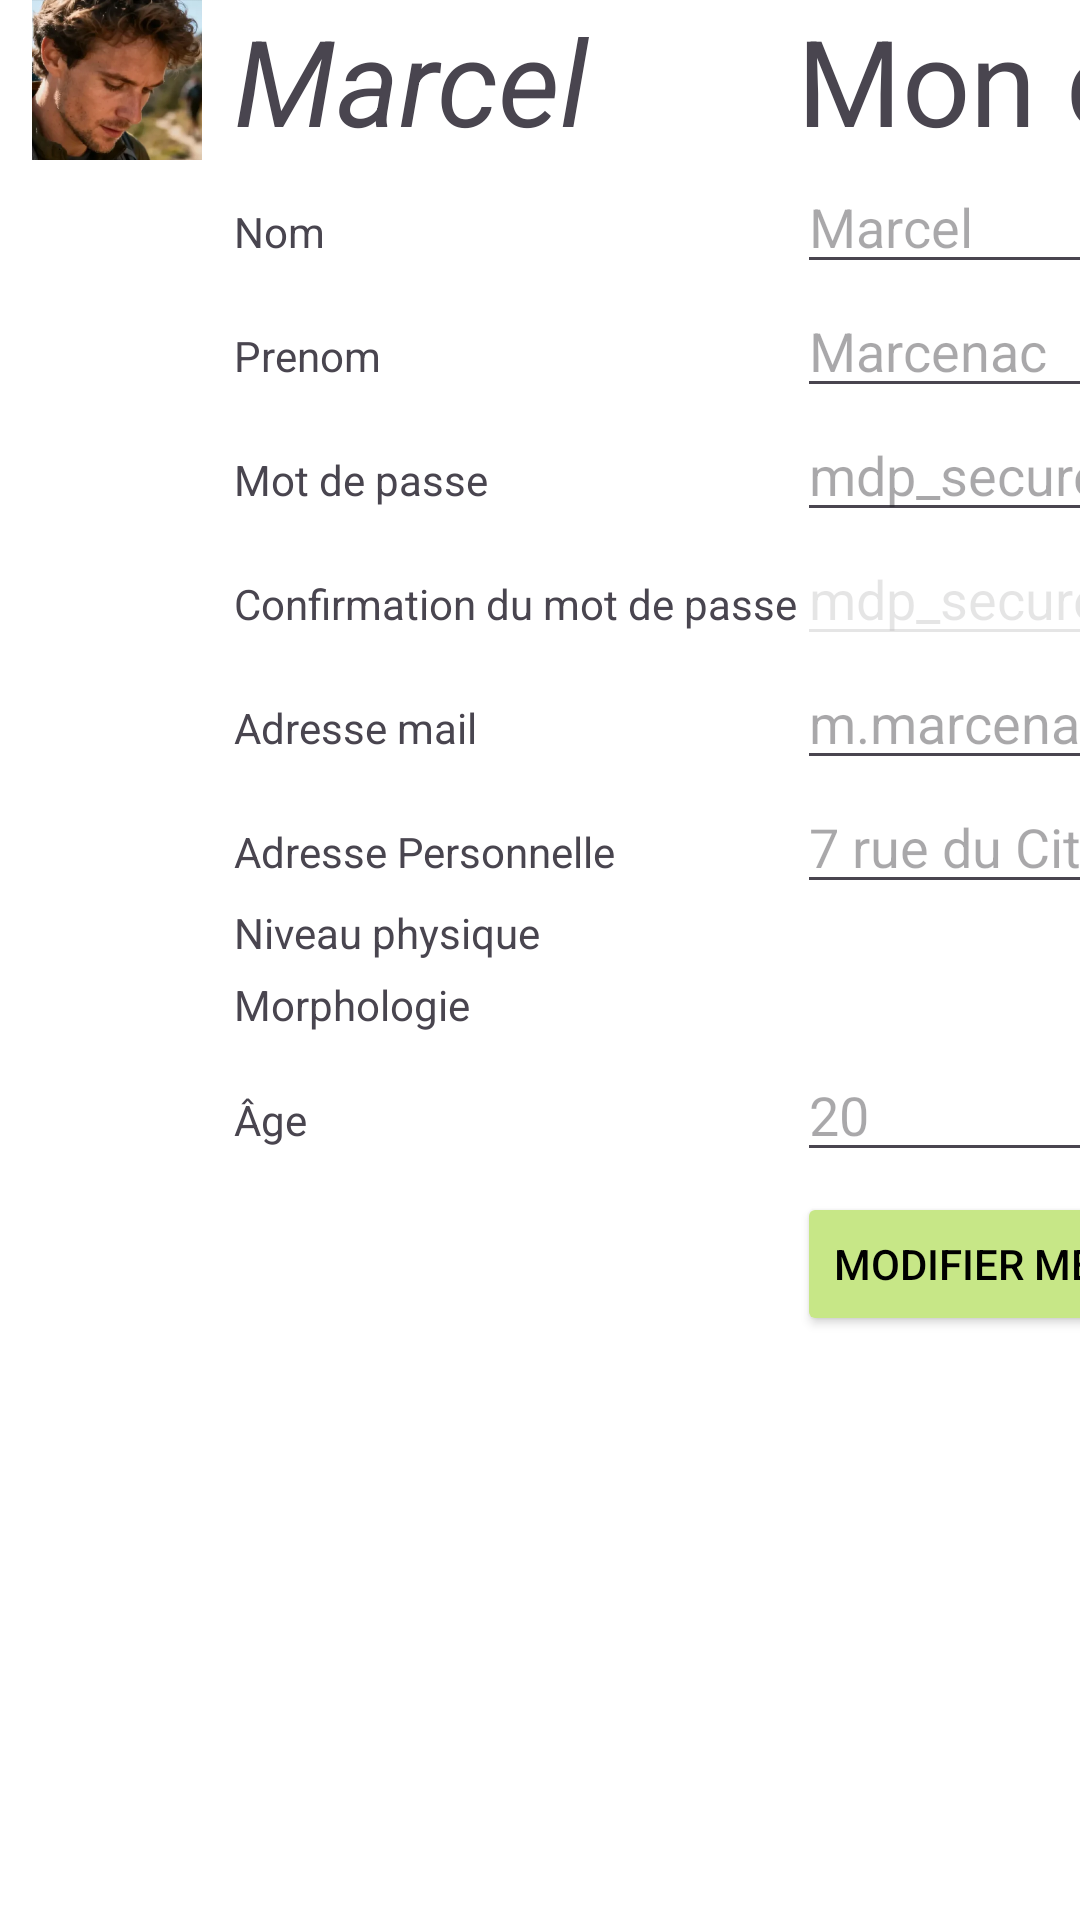

Icons on this 1080 x 1920 Android screen, each with its box as (x1, y1, x2, y2):
randonneur photo: (32, 0, 202, 160)
